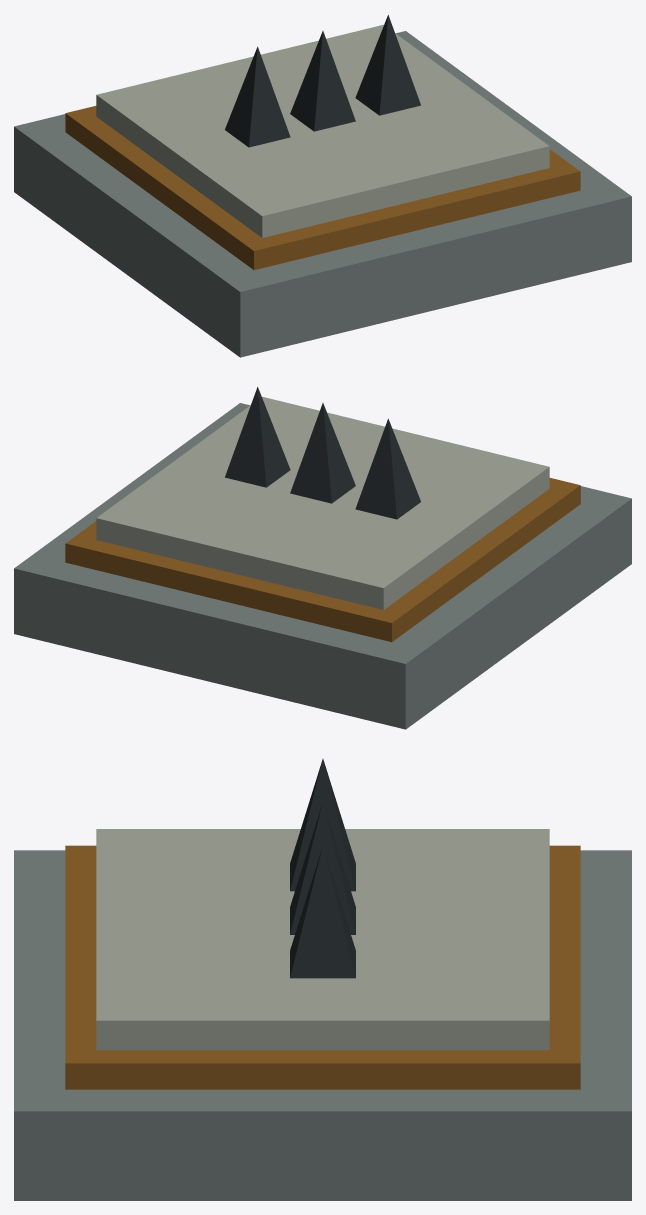
File: MOV_PRESS_SPIKE_02.obj
The picture shows the model from 3 angles, top to bottom: view 1: azimuth 30°, elevation 25°; view 2: azimuth 150°, elevation 25°; view 3: azimuth 270°, elevation 25°; orthographic projection. The views are drawn at different scales.
Visible parts, largest first — view 1: Part_0, Part_2, Part_1, Part_4, Part_5, Part_3; view 2: Part_0, Part_2, Part_1, Part_4, Part_5, Part_3; view 3: Part_0, Part_2, Part_1, Part_3, Part_4, Part_5.
Part boxes in pixels (x1,y1,x2,y2): Part_0: [14, 31, 631, 357]; Part_2: [96, 24, 549, 237]; Part_1: [65, 106, 580, 270]; Part_4: [290, 31, 355, 131]; Part_5: [225, 46, 290, 147]; Part_3: [355, 15, 420, 115]; Part_0: [14, 403, 631, 729]; Part_2: [96, 396, 549, 609]; Part_1: [65, 478, 580, 642]; Part_4: [290, 403, 355, 503]; Part_5: [355, 418, 420, 519]; Part_3: [225, 387, 290, 487]; Part_0: [14, 850, 631, 1200]; Part_2: [96, 829, 549, 1050]; Part_1: [65, 845, 580, 1089]; Part_3: [290, 846, 355, 978]; Part_4: [290, 802, 355, 934]; Part_5: [290, 759, 355, 891].
Size of the model in its own units: 1.5 by 0.72 by 1.5.
